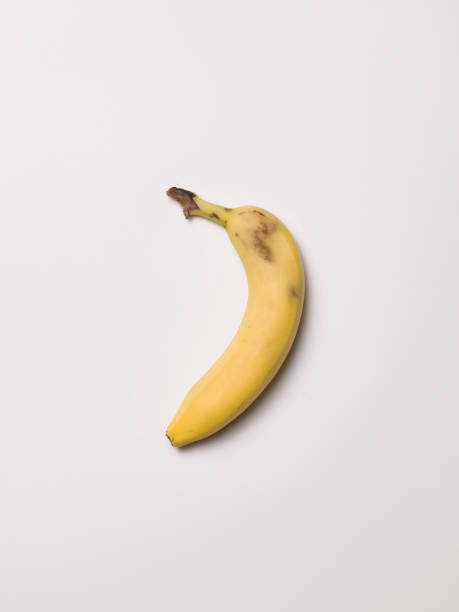fresh_banana: (165, 187, 307, 448)
